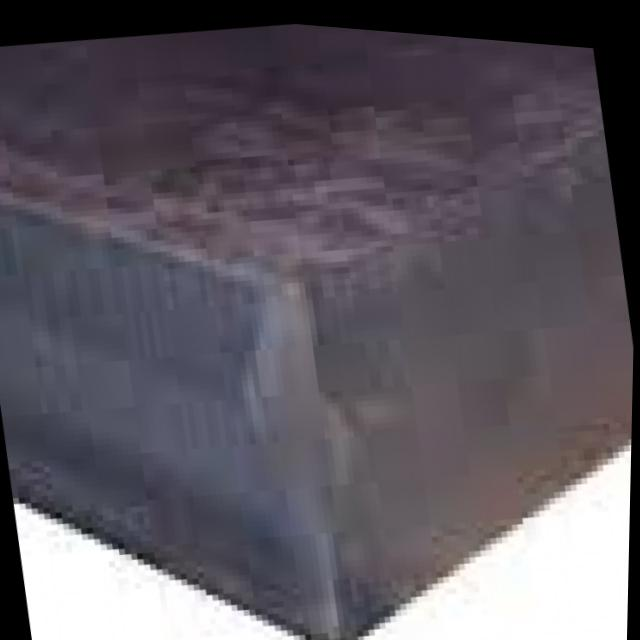metal-plates: (1, 20, 636, 640)
